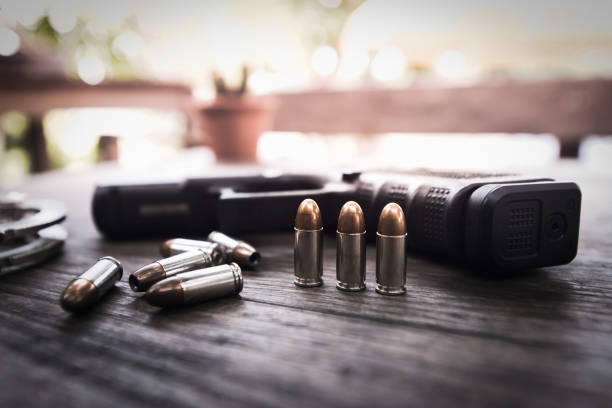pistol: (90, 163, 589, 281)
